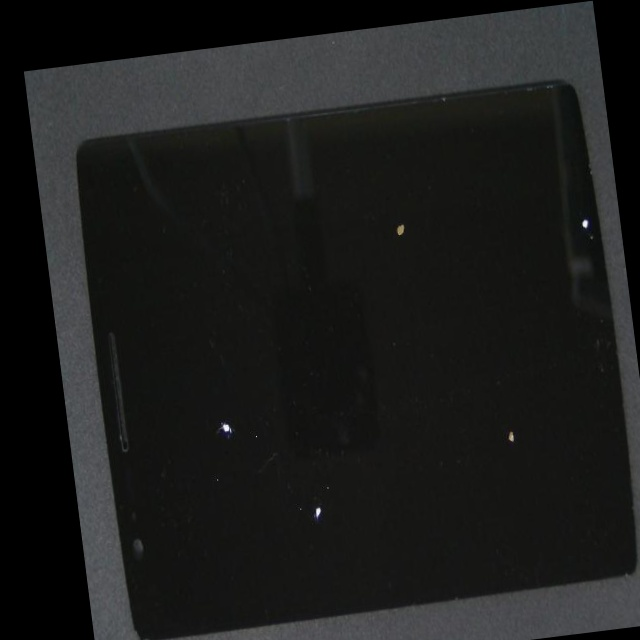stain: (268, 231, 640, 640), (217, 126, 604, 414), (138, 269, 436, 640), (287, 121, 640, 430), (81, 276, 321, 640)
